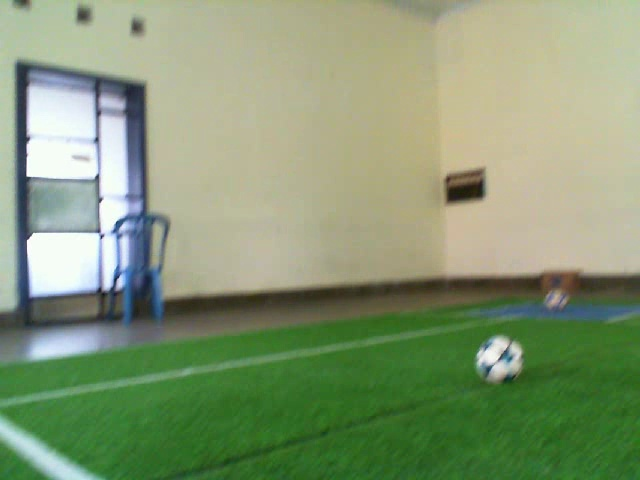ball: (473, 333, 526, 387), (542, 286, 571, 314)
